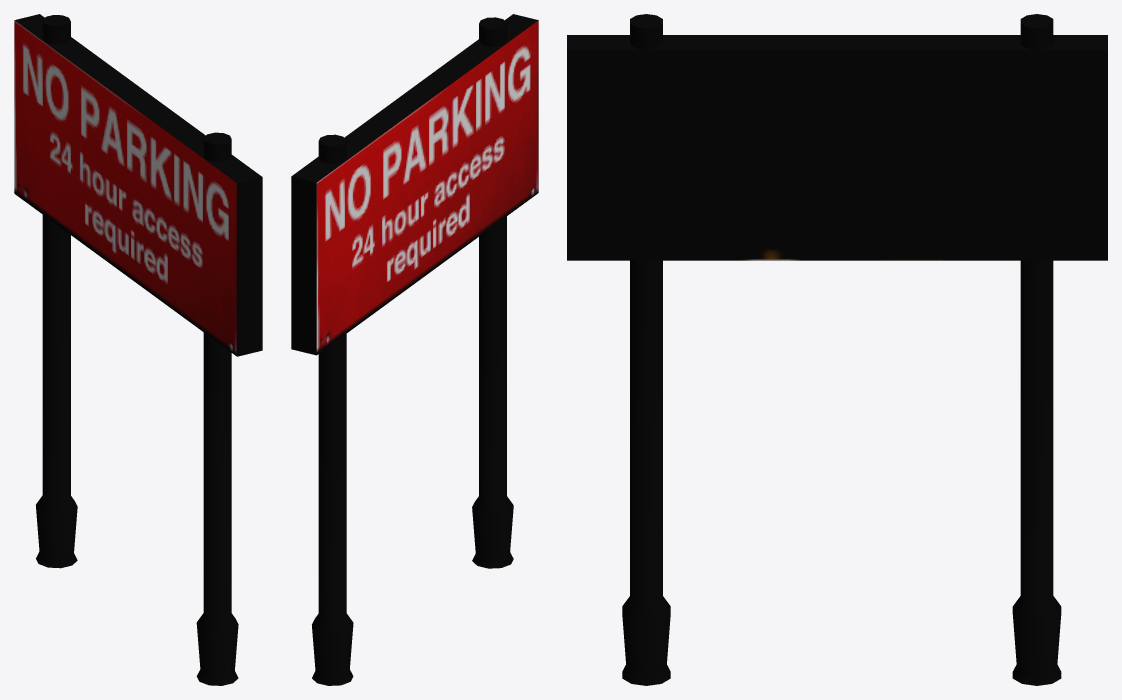
3 renders of one model, left to right at view 1: azimuth 30°, elevation 25°; view 2: azimuth 150°, elevation 25°; view 3: azimuth 270°, elevation 25°, orthographic. The views are drawn at different scales.
Visible parts, largest first — view 1: Cylinder002; view 2: Cylinder002; view 3: Cylinder002.
Boxes of the visible parts, box(x1,y1,x2,y2) form: Cylinder002: box(14, 14, 262, 685); Cylinder002: box(291, 14, 538, 685); Cylinder002: box(567, 14, 1107, 685).
Bounding box in the file's own units: 1.42 × 20.01 × 15.
